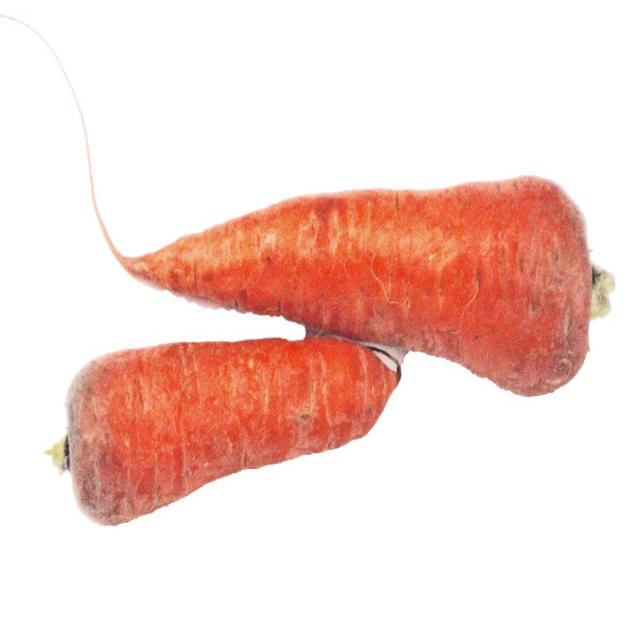Carrot: (132, 179, 589, 402), (69, 339, 404, 529)
